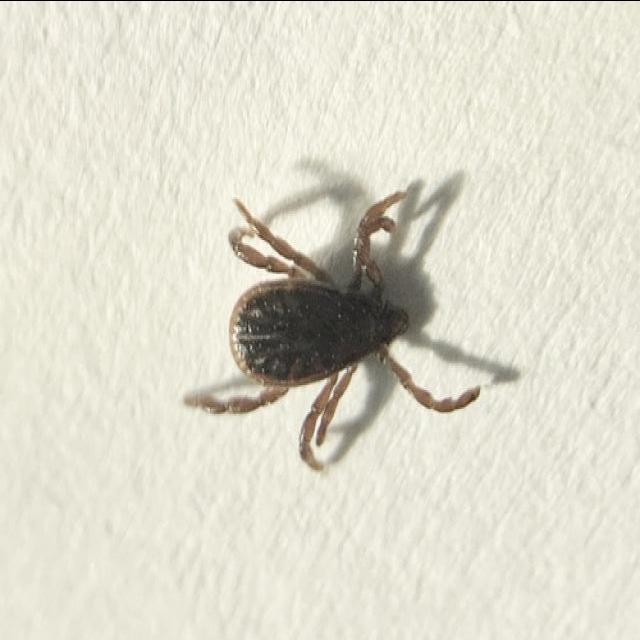Rhipicephalus Sanguineus-M: (183, 177, 481, 469)
